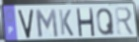H: (75, 8, 96, 37)
K: (58, 9, 75, 38)
M: (34, 9, 60, 39)
Q: (96, 7, 116, 37)
R: (114, 6, 136, 36)
V: (17, 8, 34, 40)
